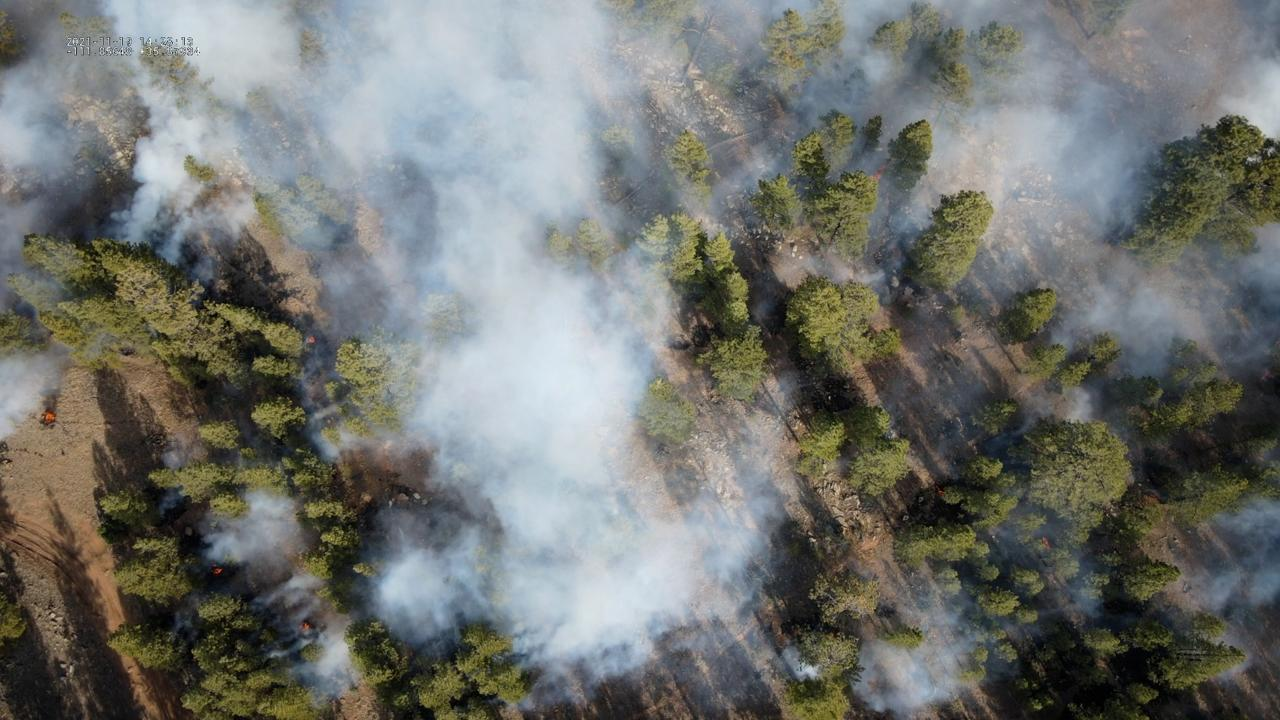fire: (874, 163, 885, 181), (210, 562, 222, 578), (43, 411, 56, 425), (297, 622, 310, 634), (1041, 536, 1051, 550), (305, 335, 316, 344), (937, 490, 946, 497)
smoke: (0, 0, 1280, 720)
